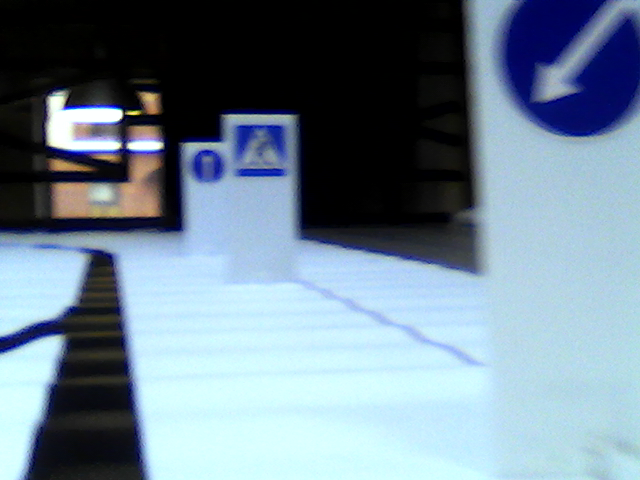pesh: (232, 123, 283, 181)
prep: (497, 2, 639, 142)
